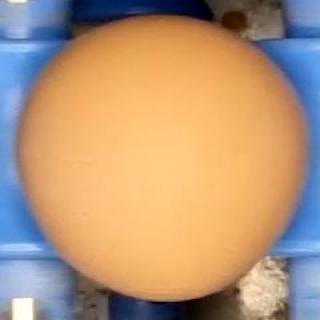Telur: (10, 14, 312, 303)
